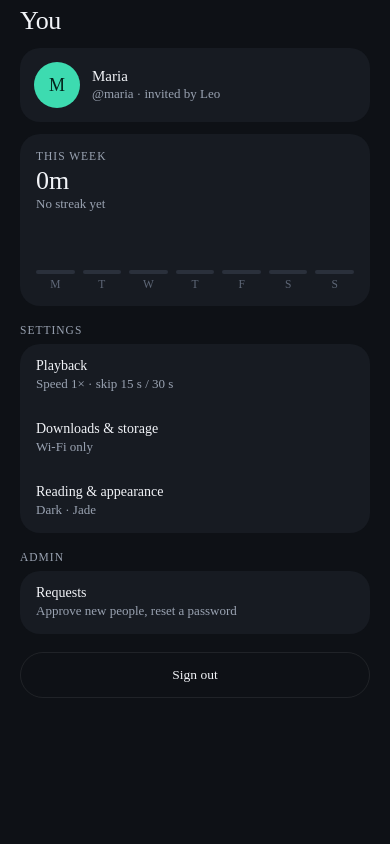
Test case: You › admin › says so when the list cannot be loaded
The width and height of the screenshot is (390, 844).
Click the button labelled "Requests Approve new people, reset a password" at (195, 602), box [20,571,370,634]
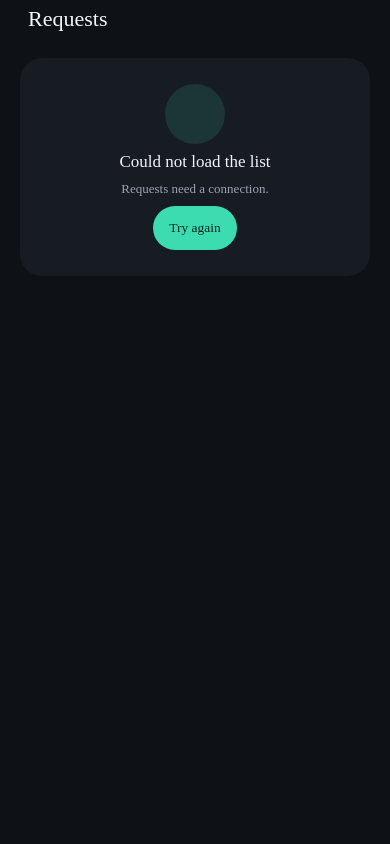
Expected: the text "Could not load the list" is shown, [119,152,270,172]
